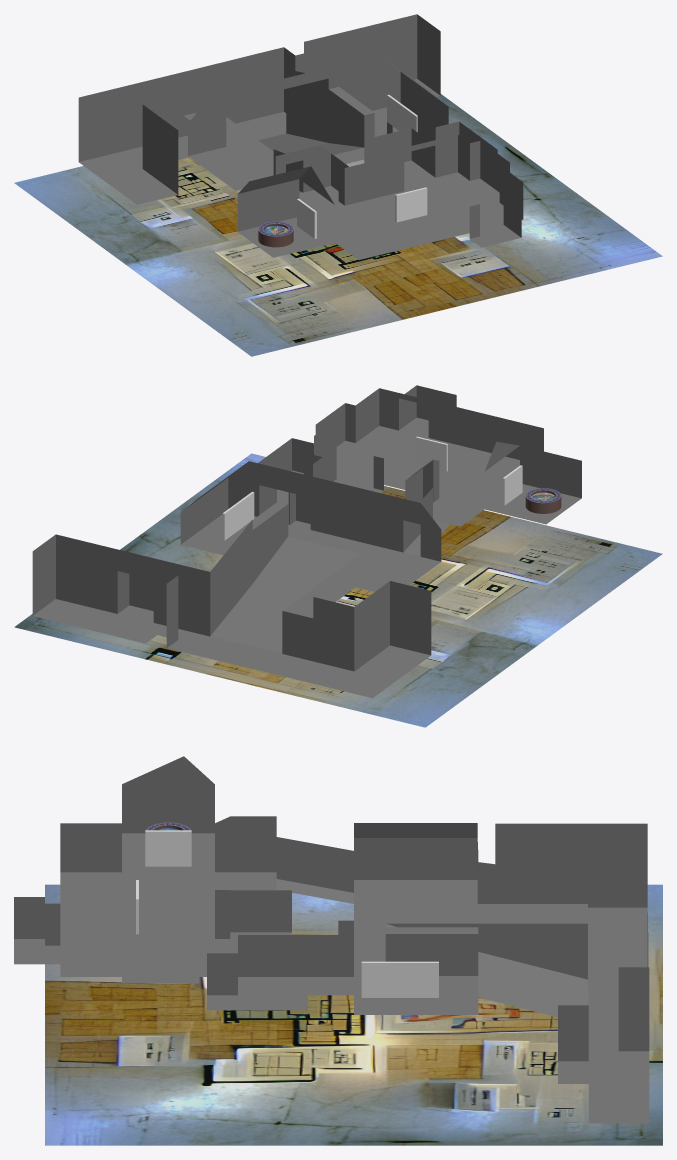
File: gallery.glb
3 views of the same model, one above another, from view 1: azimuth 30°, elevation 25°; view 2: azimuth 150°, elevation 25°; view 3: azimuth 270°, elevation 25° (orthographic). The views are drawn at different scales.
Visible parts, largest first — view 1: floor-col, plane-ref, display_small-col, display_med-col, display_small-col.001; view 2: floor-col, plane-ref, display_med-col, display_small-col, display_small-col.001; view 3: floor-col, plane-ref, display_med-col, display_small-col.001.
Boxes of the visible parts, left/top/right/bottom form: floor-col: left=78, top=14, right=523, bottom=259; plane-ref: left=14, top=94, right=662, bottom=356; display_small-col: left=395, top=187, right=427, bottom=222; display_med-col: left=387, top=94, right=417, bottom=131; display_small-col.001: left=297, top=198, right=316, bottom=238; floor-col: left=32, top=385, right=581, bottom=698; plane-ref: left=14, top=453, right=662, bottom=727; display_med-col: left=222, top=491, right=254, bottom=540; display_small-col: left=416, top=436, right=447, bottom=471; display_small-col.001: left=502, top=465, right=522, bottom=505; floor-col: left=14, top=756, right=649, bottom=1123; plane-ref: left=45, top=884, right=662, bottom=1145; display_med-col: left=361, top=961, right=438, bottom=997; display_small-col.001: left=145, top=830, right=191, bottom=866.
Size of the model in its own units: 40 by 11.5 by 42.
Materials: 6 (3 with a texture image).
